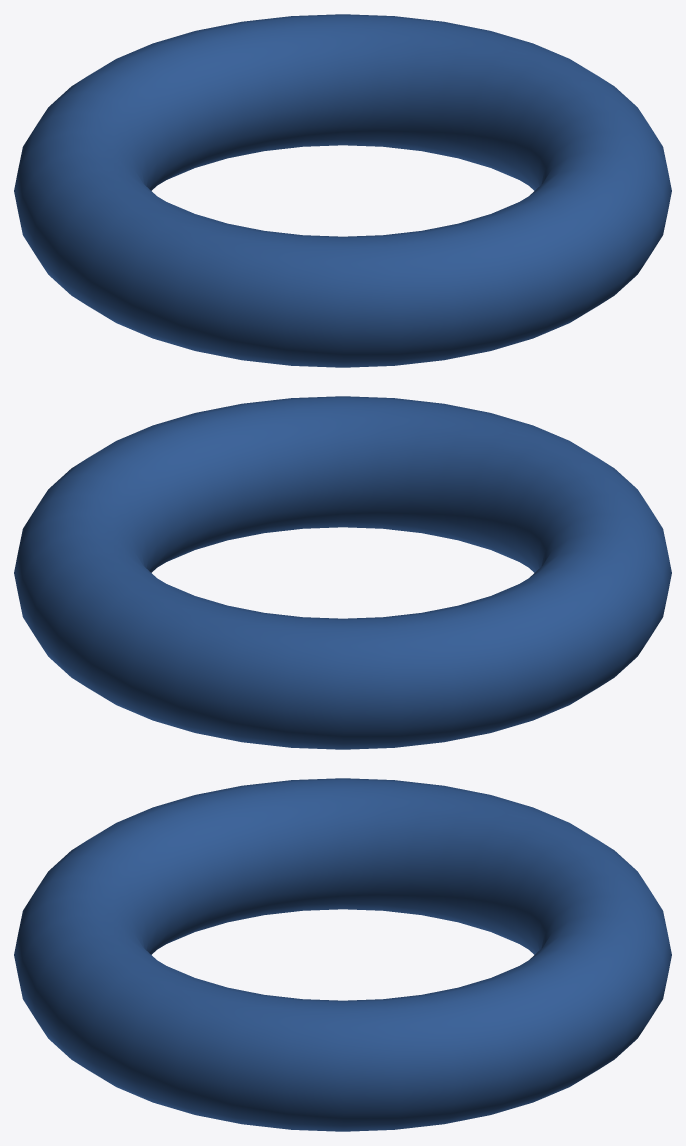
The model's file is Toroide.fbx.
3 views of the same model, one above another, from view 1: azimuth 30°, elevation 25°; view 2: azimuth 150°, elevation 25°; view 3: azimuth 270°, elevation 25° (orthographic).
Visible parts, largest first — view 1: Toroide; view 2: Toroide; view 3: Toroide.
Boxes of the visible parts, left/top/right/bottom form: Toroide: left=14, top=14, right=671, bottom=367; Toroide: left=14, top=396, right=671, bottom=749; Toroide: left=14, top=778, right=671, bottom=1131.
Bounding box in the file's own units: 202 × 39.88 × 202.
